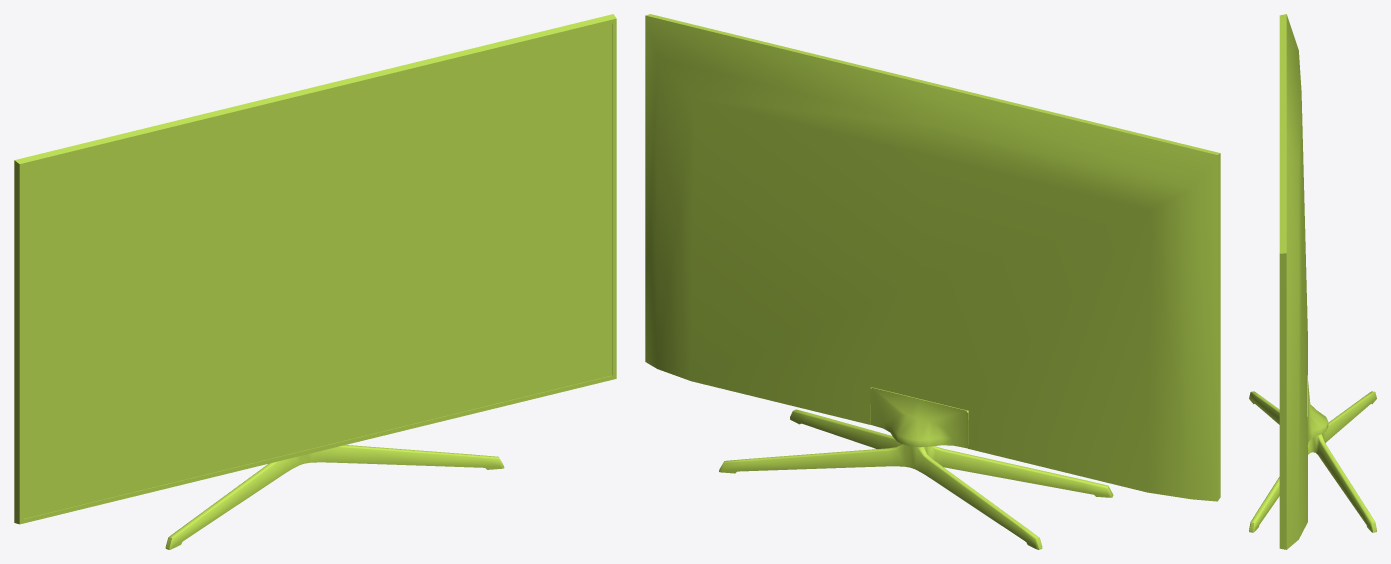
File: TV_60inch_.FBX
The picture shows the model from 3 angles, left to right: view 1: azimuth 30°, elevation 25°; view 2: azimuth 150°, elevation 25°; view 3: azimuth 270°, elevation 25°; orthographic projection. The views are drawn at different scales.
Parts seen in each view (by area): view 1: TV_60inch_, TV_60inch_base_; view 2: TV_60inch_, TV_60inch_base_; view 3: TV_60inch_, TV_60inch_base_.
Boxes of the visible parts, left/top/right/bottom form: TV_60inch_: left=14, top=14, right=616, bottom=524; TV_60inch_base_: left=165, top=445, right=504, bottom=549; TV_60inch_: left=645, top=14, right=1220, bottom=501; TV_60inch_base_: left=719, top=387, right=1113, bottom=549; TV_60inch_: left=1279, top=14, right=1307, bottom=549; TV_60inch_base_: left=1249, top=375, right=1376, bottom=532.
Size of the model in its own units: 136 by 87.94 by 30.68.
